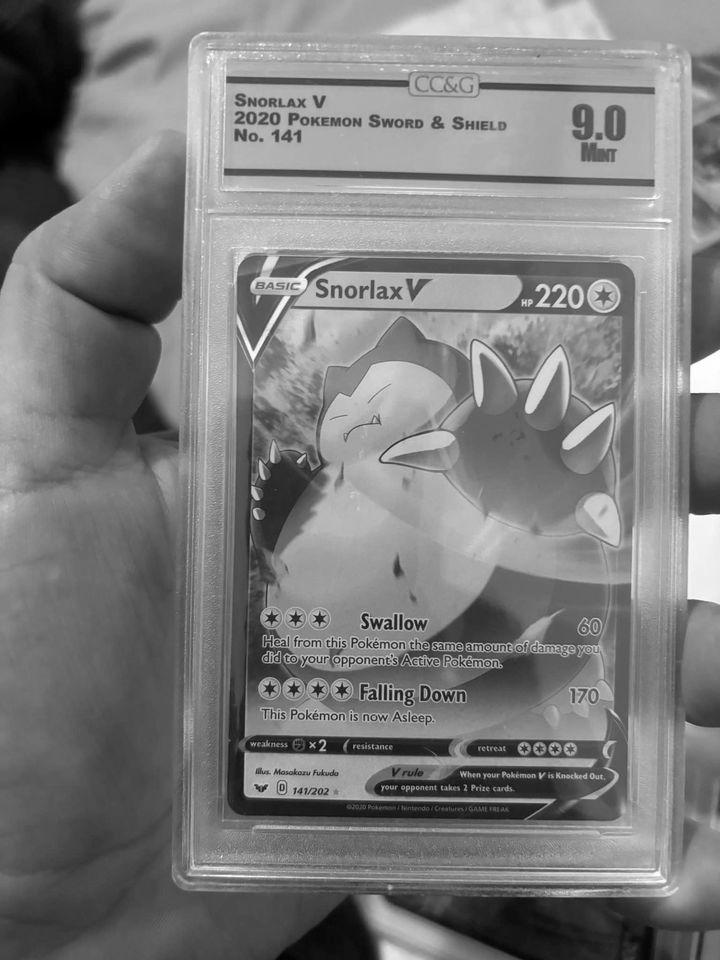card: (225, 253, 638, 822)
